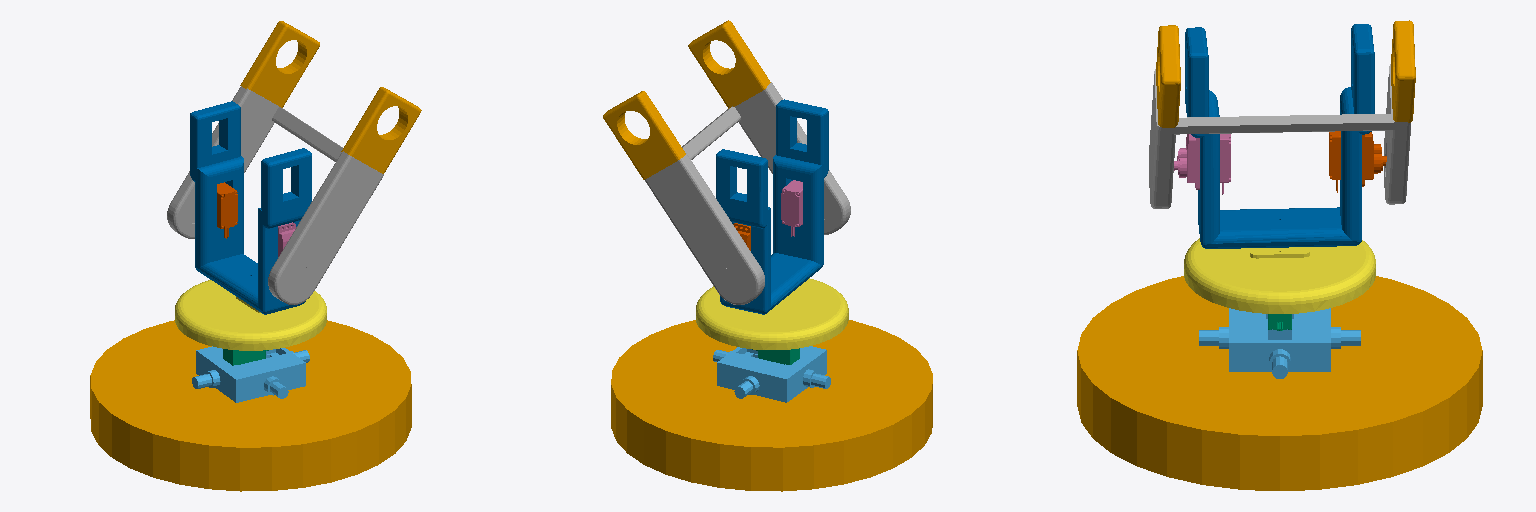
robot.urdf — arm_bot:
<?xml version="1.0"?>

				<!--...........LINKS Layout: Bottom Up............-->
<robot name="arm_bot">

<!--base link-->
	<link name="base_link">
		<visual>
			<geometry>
				<cylinder length="0.03" radius="0.1"/>
			</geometry>
		</visual>
	</link>

<!--main base-->
	<link name="main_base">
		<visual>
			<origin rpy="-1.5708 0 0" xyz="0 0 0.015"/>
			<geometry>
				<mesh filename="package://arm_bot/meshes/main_base.STL"/>
				<!--mesh filename="file://[local-path]/roco222/arm_project/models/meshes/main_base.STL"/-->
			</geometry>			
		</visual>
	</link>

<!--1st servo base plate-->
	<link name="base_plate_servo">
		<visual>
			<origin rpy="1.5708 0 3.14" xyz="0 0 0"/>
			<geometry>
				<mesh filename="package://arm_bot/meshes/servo/servo.STL"/>
			</geometry>			
		</visual>
	</link>

<!--base plate-->
	<link name="base_plate">
		<visual>
			<origin rpy="-1.5708 0 0" xyz="0 0 0"/>
			<geometry>
				<mesh filename="package://arm_bot/meshes/base_plate.STL"/>
			</geometry>			
		</visual>
	</link>

<!--elbow base-->
	<link name="elbow_base">
		<visual>
			<origin rpy="1.5708 0 0" xyz="0 0 0"/>
			<geometry>
				<mesh filename="package://arm_bot/meshes/elbow_base.STL"/>
			</geometry>			
		</visual>
	</link>

<!--2nd servo elbow vertical left-->
	<link name="servo_elbow_vertical_left">
		<visual>
			<origin rpy="0 -1.5708 -1.5708" xyz="0.04 0 0"/>
			<geometry>
				<mesh filename="package://arm_bot/meshes/servo/servo.STL"/>
			</geometry>			
		</visual>
	</link>

<!--3rd servo elbow vertical right-->
	<link name="servo_elbow_vertical_right">
		<visual>
			<origin rpy="0 -1.5708 1.5708" xyz="-0.04 0 0"/>
			<geometry>
				<mesh filename="package://arm_bot/meshes/servo/servo.STL"/>
			</geometry>			
		</visual>
	</link>

<!--elbow vertical-->
	<link name="elbow_vertical">
		<visual>
			<origin rpy="1.5708 0 3.14" xyz="0 0 0"/>
			<geometry>
				<mesh filename="package://arm_bot/meshes/elbow_ver_link.STL"/>
			</geometry>			
		</visual>
	</link>

<!--top bit of elbow vertical-->
	<link name="elbow_vertical_top">
		<visual>
			<origin rpy="1.5708 0 0" xyz="0 0 0.073"/>
			<geometry>
				<mesh filename="package://arm_bot/meshes/elbow_ver_top.STL"/>
			</geometry>			
		</visual>
	</link>

<!--double bearings for elbow to wrist-->
	<!--link name="double_bearing_1">
		<visual>
			<origin rpy="1.5708 1.5708 0" xyz="0.053 0 0"/>
			<geometry>
				<mesh filename="package://arm_bot/meshes/bearing.STL"/>
			</geometry>			
		</visual>

		<visual>
			<origin rpy="1.5708 1.5708 0" xyz="-0.063 0 0"/>
			<geometry>
				<mesh filename="package://arm_bot/meshes/bearing.STL"/>
			</geometry>			
		</visual>
	</link-->

<!--longer shaft-->
	<!--link name="longer_shaft">
		<visual>
			<origin rpy="0 0 1.5708" xyz="0.068 0 0"/>
			<geometry>
				<mesh filename="package://arm_bot/meshes/elbow_to_wrist_shaft.STL"/>
			</geometry>			
		</visual>
	</link-->

<!--vertical wrist-->
	<!--link name="wrist_vertical">
		<visual>
			<origin rpy="1.5708 0 0" xyz="0 0 -0.01"/>
			<geometry>
				<mesh filename="package://arm_bot/meshes/wrist_ver.STL"/>
			</geometry>			
		</visual>
	</link-->

<!--control arm shaft-->
	<!--link name="control_arm_shaft">
		<visual>
			<origin rpy="0 0 1.5708" xyz="0.045 0 0"/>
			<geometry>
				<mesh filename="package://arm_bot/meshes/control_arm_shaft.STL"/>
			</geometry>			
		</visual>
	</link-->

<!--4th servo, for control arm -->
	<!--link name="servo_control_arm">
		<visual>
			<origin rpy="0 -1.5708 1.5708" xyz="0.015 0 0"/>
			<geometry>
				<mesh filename="package://arm_bot/meshes/servo/servo.STL"/>
			</geometry>			
		</visual>
	</link-->

<!--control arm fitter -->
	<!--link name="fitter_control_arm">
		<visual>
			<origin rpy="0 -3 -1.5708" xyz="0 0 0"/>
			<geometry>
				<mesh filename="package://arm_bot/meshes/control_arm_fitter.STL"/>
			</geometry>
		</visual>
	</link-->

						<!--control arm
							<link name="control_arm">
								<visual>
									<origin rpy="1.5708 -1.5708 0" xyz="0 0.04 0.05"/>
									<geometry>
										<mesh filename="package://arm_bot/meshes/control_arm.STL"/>
									</geometry>			
								</visual>
							</link>-->

<!--5th servo, for claw base horizontal movement -->
	<!--link name="servo_claw_base">
		<visual>
			<origin rpy="1.5708 0 0" xyz="-0.005 0 0"/>
			<geometry>
				<mesh filename="package://arm_bot/meshes/servo/servo.STL"/>
			</geometry>			
		</visual>
	</link-->

<!--claw base-->
	<!--link name="claw_base">
		<visual>
			<origin rpy="0 3.14 0" xyz="0 -0.015 0"/>
			<geometry>
				<mesh filename="package://arm_bot/meshes/claw_base.STL"/>
			</geometry>			
		</visual>
	</link-->

<!--1st pair of double bearings for claw-->
	<!--link name="double_bearing_L">
		<visual>
			<origin rpy="0 0 0" xyz="0 0.01 0"/>
			<geometry>
				<mesh filename="package://arm_bot/meshes/bearing.STL"/>
			</geometry>			
		</visual>

		<visual>
			<origin rpy="0 0 0" xyz="0 -0.02 0"/>
			<geometry>
				<mesh filename="package://arm_bot/meshes/bearing.STL"/>
			</geometry>			
		</visual>
	</link-->

<!--2nd pair of double bearings for claw-->
	<!--link name="double_bearing_R">
		<visual>
			<origin rpy="0 0 0" xyz="0 0.01 0"/>
			<geometry>
				<mesh filename="package://arm_bot/meshes/bearing.STL"/>
			</geometry>			
		</visual>

		<visual>
			<origin rpy="0 0 0" xyz="0 -0.02 0"/>
			<geometry>
				<mesh filename="package://arm_bot/meshes/bearing.STL"/>
			</geometry>			
		</visual>
	</link-->

<!--Left claw-->
	<!--link name="claw_L">
		<visual>
			<origin rpy="0 2.94 0" xyz="-0.015 -0.008 0.038"/>
			<geometry>
				<mesh filename="package://arm_bot/meshes/claw_finger.STL"/>
			</geometry>			
		</visual>
	</link-->

<!--Right claw-->
	<!--link name="claw_R">
		<visual>
			<origin rpy="3.14 0.2 0" xyz="0.015 0.008 0.038"/>
			<geometry>
				<mesh filename="package://arm_bot/meshes/claw_finger.STL"/>
			</geometry>			
		</visual>
	</link-->

<!--6th servo, for claws-->
	<!--link name="servo_claw">
		<visual>
			<origin rpy="0 0 0" xyz="-0.005 0 0"/>
			<geometry>
				<mesh filename="package://arm_bot/meshes/servo/servo.STL"/>
			</geometry>			
		</visual>
	</link-->

<!--6th servo,bit for claws-->
	<!--link name="servo_bit">
		<visual>
			<origin rpy="0 0 0" xyz="0 0.015 0"/>
			<geometry>
				<mesh filename="package://arm_bot/meshes/servo/servo_bit_only.STL"/>
			</geometry>			
		</visual>
	</link-->


				<!--...........JOINTS Layout: Top down............-->


<!--6th servo bit to servo-->	
	
	<!--joint name="claws" type="revolute">
		<axis xyz="0 1 0" />
		<limit effort="1000" lower="0.03" upper="0.64" velocity="0.5" />
		<parent link="servo_claw"/>
		<child link="servo_bit"/>
		<origin xyz="-0.005 0 0" />
	</joint-->

<!--6th servo to claw base for claws-->	
	
	<!--joint name="servo_claws_open_close" type="fixed">
		<parent link="claw_base"/>
		<child link="servo_claw"/>
		<origin xyz="0 0.017 0.003" />
	</joint-->

<!--left claw to bearing-->	
	
	<!--joint name="claw_L_to_claw_base" type="revolute">
		<axis xyz="0 1 0" />
		<limit effort="1000" lower="0" upper="3.14" velocity="0.5" />
		<parent link="double_bearing_L"/>
		<child link="claw_L"/>
		<origin xyz="0 0 0" />
		<mimic joint="claws" multiplier="1" offset="0"/>
	</joint-->

<!--right claw to bearing-->	
	
	<!--joint name="claw_R_to_claw_base" type="revolute">
		<axis xyz="0 -1 0" />
		<limit effort="1000" lower="0" upper="3.14" velocity="0.5" />
		<parent link="double_bearing_R"/>
		<child link="claw_R"/>
		<origin xyz="0 0 0" />
		<mimic joint="claws" multiplier="1" offset="0"/>
	</joint-->

<!--1st pair of double bearings to claw base-->	
	
	<!--joint name="bearing_claw_L" type="fixed">
		<parent link="claw_base"/>
		<child link="double_bearing_L"/>
		<origin xyz="0.0425 0 0.005" />
	</joint-->

<!--2nd pair of double bearings to claw base-->	
	
	<!--joint name="bearing_claw_R" type="fixed">
		<parent link="claw_base"/>
		<child link="double_bearing_R"/>
		<origin xyz="-0.0425 0 0.005" />
	</joint-->

<!--servo to claw base horiizontal-->	
	
	<!--joint name="claw_base_hoz" type="revolute">
		<axis xyz="0 0 1" />
		<limit effort="1000" lower="0" upper="3.14" velocity="0.5" />
		<parent link="servo_claw_base"/>
		<child link="claw_base"/>
		<origin xyz="-0.005 0 0.025" />
	</joint-->

<!--servo vertical wrist to claw base horiizontal-->	
	
	<!--joint name="servo_ver_wrist_to_claw_base" type="fixed">
		<parent link="wrist_vertical"/>
		<child link="servo_claw_base"/>
		<origin xyz="0 0 0.060" />
	</joint-->

					<!--control arm to ver wrist
	
						<joint name="control_arm_to_ver_wrist" type="continuous">
							<axis xyz="1 0 0" />		
							<parent link="control_arm_shaft"/>
							<child link="control_arm"/>
							<origin xyz="0 0 0" />
							<mimic joint="wrist_ver" multiplier="1" offset="0"/>
						</joint>-->

					<!--control arm to fitter	
	
						<joint name="control_arm_to_fitter" type="continuous">
							<axis xyz="1 0 0" />		
							<parent link="fitter_control_arm"/>
							<child link="control_arm"/>
							<origin xyz="0 0 0" />
							<mimic joint="wrist_ver" multiplier="1" offset="-0.4"/>
						</joint>-->

<!--control arm servo to elbow base-->	
	
	<!--joint name="wrist_ver" type="revolute">
		<axis xyz="1 0 0" />
		<limit effort="1000" lower="0" upper="1" velocity="0.5" />
		<parent link="servo_control_arm"/>
		<child link="fitter_control_arm"/>
		<origin xyz="0 0 0" />
	</joint-->

<!--control arm servo to elbow base-->	
	
	<!--joint name="servo_CA_to_elbow_base" type="fixed">
		<parent link="elbow_base"/>
		<child link="servo_control_arm"/>
		<origin xyz="0.021 0 0.085" />
	</joint-->

<!--control arm shaft-->	
	
	<!--joint name="control_arm_to_wrist_shaft" type="fixed">
		<parent link="wrist_vertical"/>
		<child link="control_arm_shaft"/>
		<origin xyz="0 0 0.03" />
	</joint-->

<!--vertical wrist joint to elbow shaft-->	
	
	<!--joint name="wrist_ver_to_shaft" type="fixed">
		<parent link="longer_shaft"/>
		<child link="wrist_vertical"/>
		<origin xyz="0 0 0" />
	</joint-->

<!--elbow to wrist shaft-->	
	
	<!--joint name="elbow_to_wrist" type="revolute">
		<axis xyz="1 0 0"/>
		<limit effort="1000" lower="0" upper="3.14" velocity="0.5" />	
		<parent link="double_bearing_1"/>
		<child link="longer_shaft"/>
		<origin xyz="0 0 0" />
		<mimic joint="wrist_ver" multiplier="1" offset="0.4"/>
	</joint-->

<!--elbow to wrist shaft bearings-->
	<!--joint name="elbow_to_wrist_bearings" type="fixed">
		<parent link="elbow_vertical_top"/>
		<child link="double_bearing_1"/>
		<origin xyz="0 0 0.1048" />
	</joint-->

<!--vertical elbow's top bit-->
	<joint name="elbow_top" type="fixed">
		<parent link="elbow_vertical"/>
		<child link="elbow_vertical_top"/>
		<origin xyz="0 0 0" />
	</joint>

<!--mimic 2nd & 3rd servo to vertical elbow link-->	
	
	<joint name="elbow_ver" type="revolute">
		<axis xyz="1 0 0" />
		<limit effort="1000" lower="0.02" upper="1.3" velocity="0.5" />
		<parent link="servo_elbow_vertical_left"/>
		<child link="elbow_vertical"/>
		<origin xyz="0 0 0" />
	</joint>

<!--3rd servo to elbow base right-->
	<joint name="3rd_servo_to_elbow_base" type="fixed">
		<parent link="elbow_base"/>
		<child link="servo_elbow_vertical_right"/>
		<origin xyz="0 0 0.04" />
	</joint>

<!--2nd servo to elbow base left-->
	<joint name="2nd_servo_to_elbow_base" type="fixed">
		<parent link="elbow_base"/>
		<child link="servo_elbow_vertical_left"/>
		<origin xyz="0 0 0.04" />
	</joint>

<!--base plate to elbow base-->
	<joint name="plate_to_elbow_base" type="fixed">
		<parent link="base_plate"/>
		<child link="elbow_base"/>
		<origin xyz="0 0 0.01" />
	</joint>


<!--1st servo main base to base plate-->
	<joint name="base_plate_hoz" type="revolute">
		<axis xyz="0 0 1" />
		<limit effort="1000" lower="0.1" upper="3.14" velocity="0.5" />
		<parent link="base_plate_servo"/>
		<child link="base_plate"/>
		<origin xyz="0 0 0.022" />
	</joint>

<!--1st servo on main base-->
	<joint name="servo_on_main_base" type="fixed">
		<parent link="main_base"/>
		<child link="base_plate_servo"/>
		<origin xyz="0 0 0.030" />
	</joint>

<!--base link to main base-->
	<joint name="base_to_main" type="fixed">
		<parent link="base_link"/>
		<child link="main_base"/>
		<origin xyz="0 0 0.015" />
	</joint>
</robot>

--- Render facts (derived) ---
The picture shows the robot from 3 angles, left to right: view 1: azimuth 30°, elevation 25°; view 2: azimuth 150°, elevation 25°; view 3: azimuth 270°, elevation 25°; orthographic projection.
Model arm_bot with 9 links and 8 joints (2 revolute, 6 fixed), rooted at base_link, posed joints at zero except 2 at the middle of their limits (elbow_ver = 0.66, base_plate_hoz = 1.62).
Visible links, largest first — view 1: base_link, elbow_base, elbow_vertical, base_plate, elbow_vertical_top, main_base, servo_elbow_vertical_left; view 2: base_link, elbow_base, elbow_vertical, base_plate, elbow_vertical_top, main_base, servo_elbow_vertical_right; view 3: base_link, elbow_base, base_plate, elbow_vertical, main_base, elbow_vertical_top, servo_elbow_vertical_right, servo_elbow_vertical_left.
Link boxes in pixels (x1,y1,x2,y2): base_link: (90,320,411,491); elbow_base: (190,101,311,314); elbow_vertical: (167,86,383,304); base_plate: (175,280,326,350); elbow_vertical_top: (240,21,421,173); main_base: (192,346,309,402); servo_elbow_vertical_left: (217,182,237,238); base_link: (611,320,932,491); elbow_base: (716,99,828,314); elbow_vertical: (645,82,850,304); base_plate: (696,278,848,349); elbow_vertical_top: (603,20,770,179); main_base: (713,346,830,402); servo_elbow_vertical_right: (781,180,802,236); base_link: (1077,276,1482,490); elbow_base: (1185,24,1374,248); base_plate: (1184,238,1375,313); elbow_vertical: (1149,64,1410,208); main_base: (1199,308,1360,378); elbow_vertical_top: (1156,20,1415,127); servo_elbow_vertical_right: (1174,134,1230,194); servo_elbow_vertical_left: (1329,131,1386,192).
Bounding box of the posed robot: 0.2 × 0.2 × 0.2369 m (x, y, z).
Meshes: 6 distinct files referenced, 8 mesh visuals loaded (6 binary STL).
